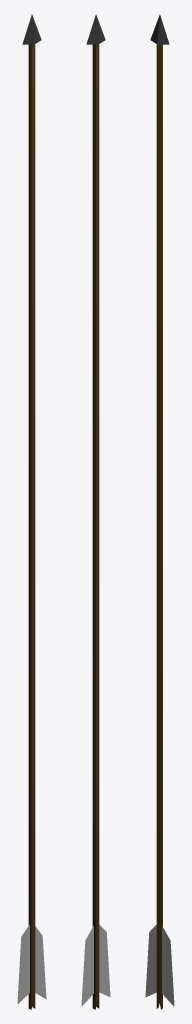
File: Arrow_Wooden.fbx
The picture shows the model from 3 angles, left to right: view 1: azimuth 30°, elevation 25°; view 2: azimuth 210°, elevation 25°; view 3: azimuth 330°, elevation 25°; orthographic projection.
Visible parts, largest first — view 1: Arrow_Wooden; view 2: Arrow_Wooden; view 3: Arrow_Wooden.
Part boxes in pixels (bbox=[...]): Arrow_Wooden: bbox=[17, 14, 46, 1009]; Arrow_Wooden: bbox=[81, 14, 110, 1009]; Arrow_Wooden: bbox=[145, 14, 174, 1009].
Bounding box in the file's own units: 10.5 × 350 × 3.54.
